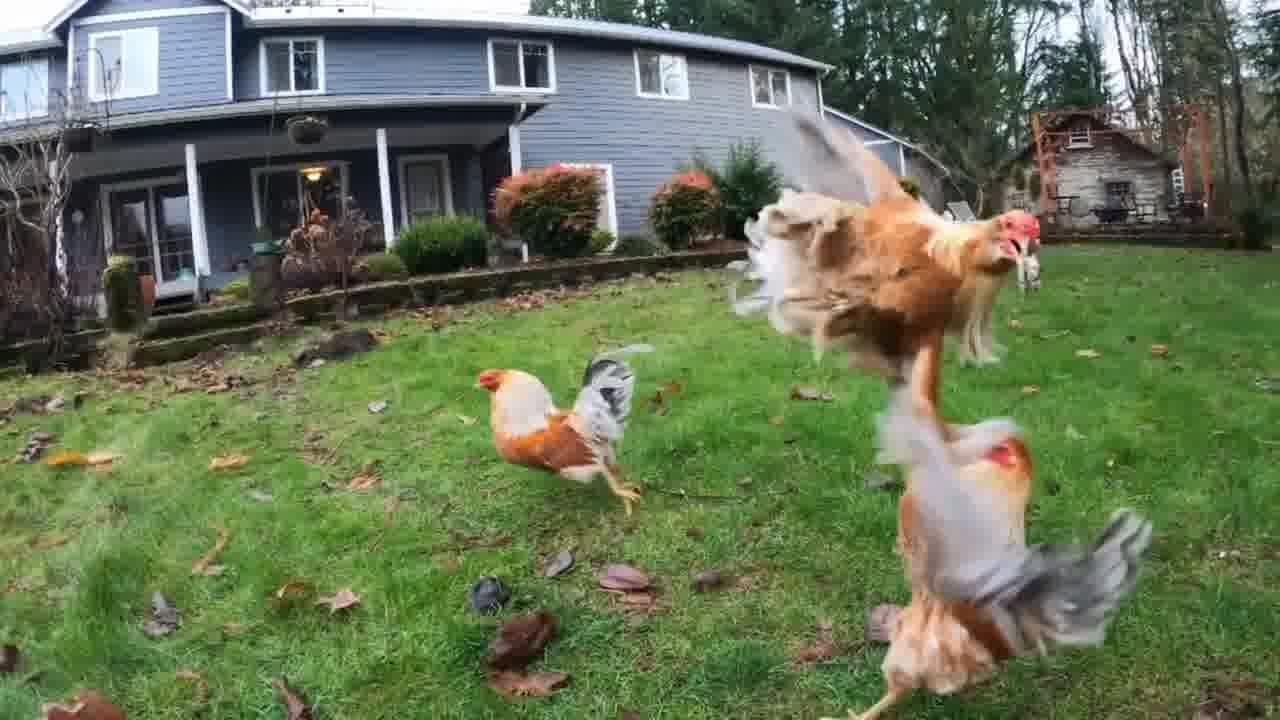Normal: (832, 394, 1164, 718), (704, 106, 1048, 378), (464, 318, 686, 508)
